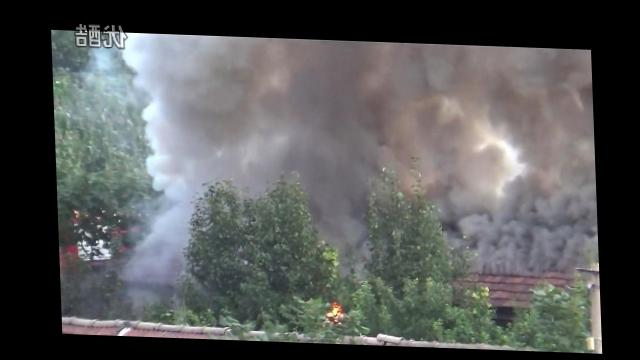fire: (323, 299, 343, 322)
